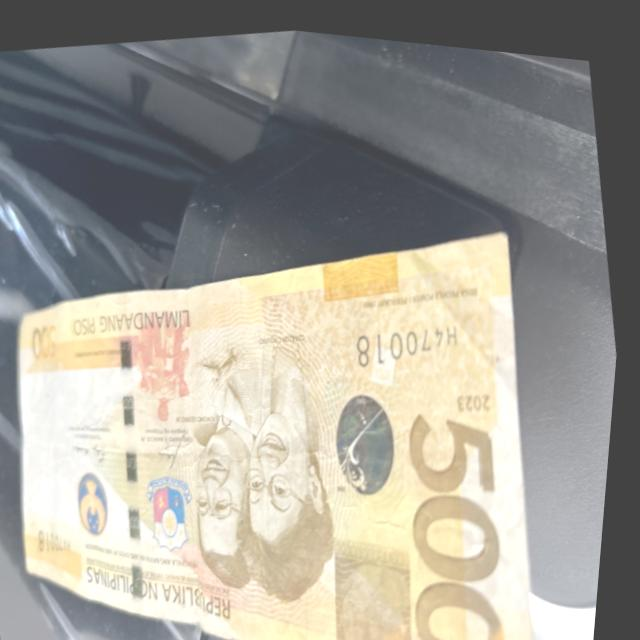concealed_value: (326, 534, 434, 640)
optically_variable_device: (330, 379, 411, 495)
